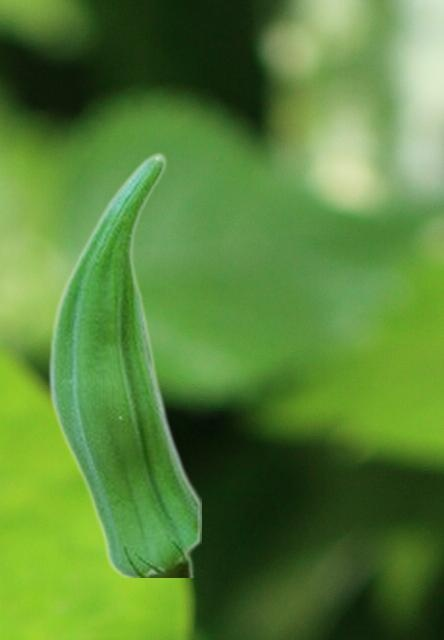okra: (47, 150, 200, 576)
